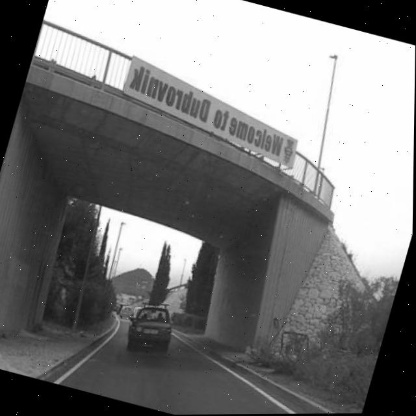car: (125, 296, 178, 355)
